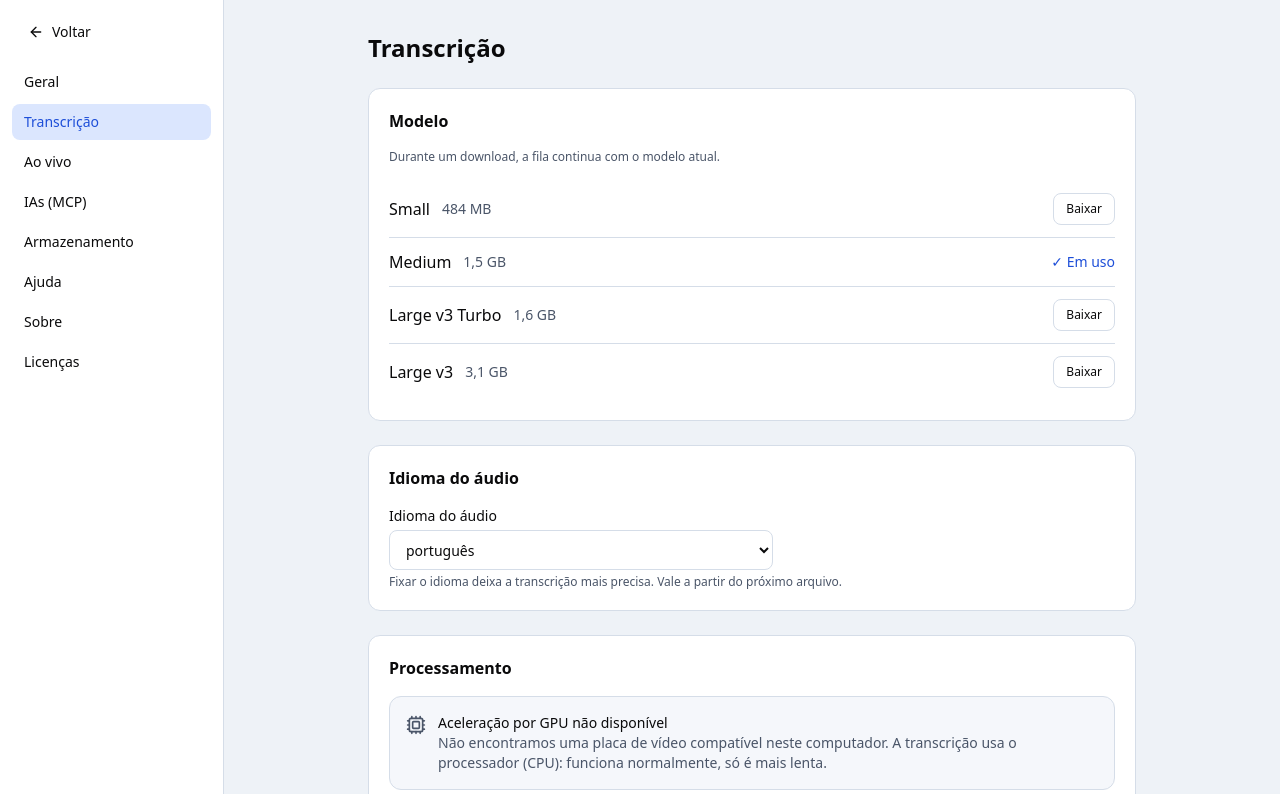
Test: Transcrição — modelos › baixar mostra a barra com cancelar e atualiza a lista ao terminar
Click the button "Baixar" in the row of "484 MB".
click(1084, 209)  # box [1053,193,1115,225]
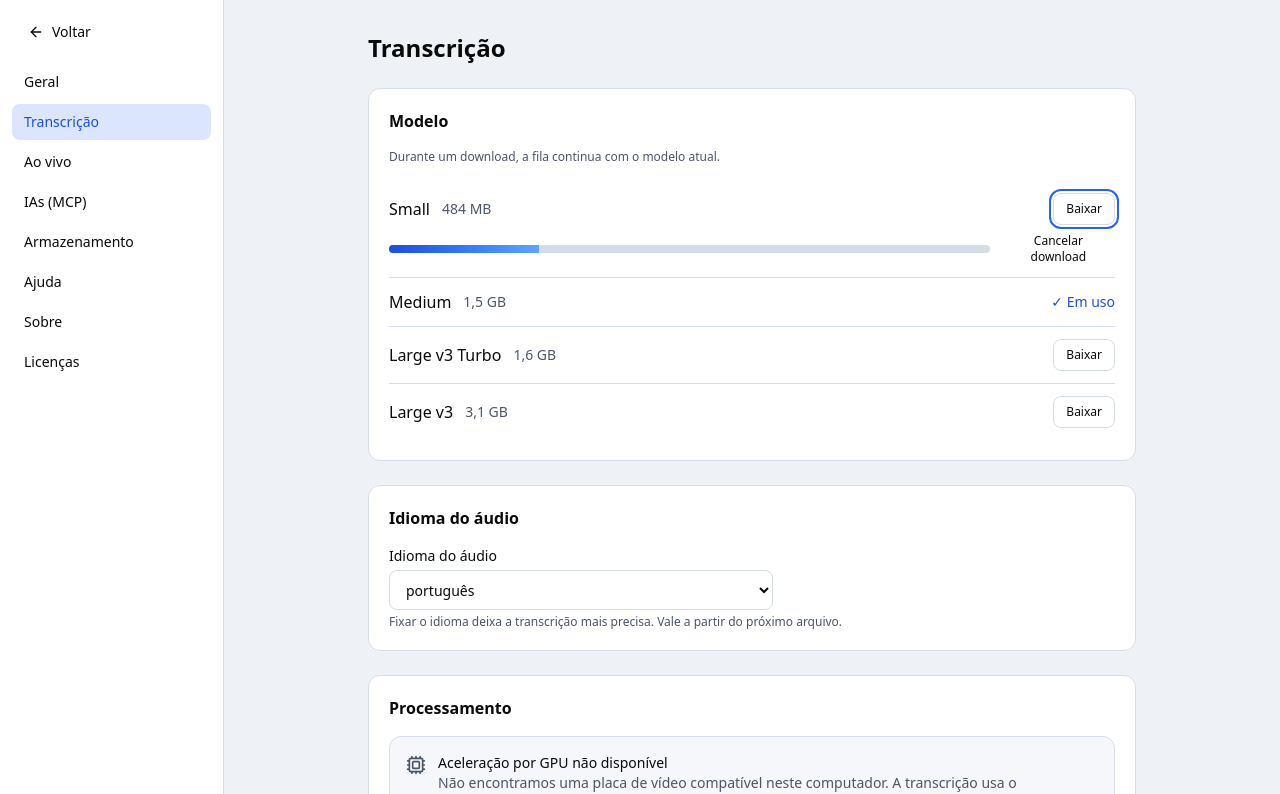
Click the button "Cancelar download".
click(1058, 249)  # box [1002,233,1115,265]
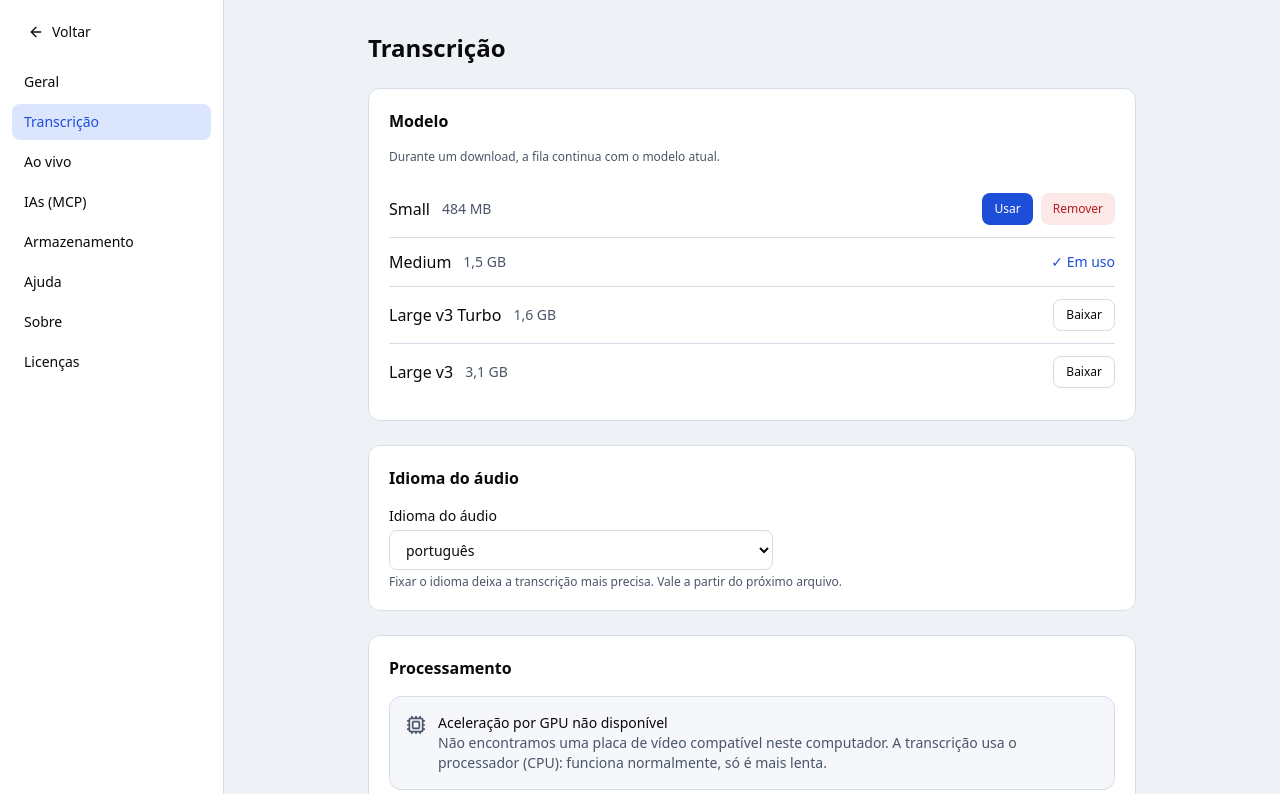
Now the button "Usar" is shown, box [982,193,1033,225]
